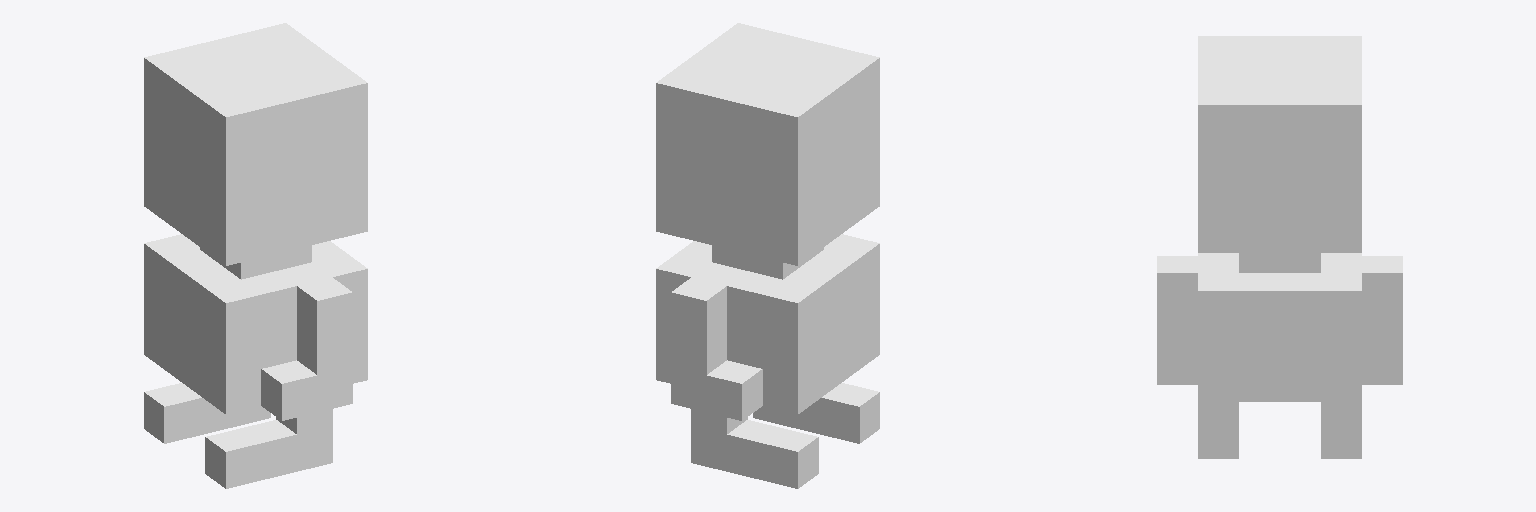
Rendered from tlc_man.obj.
The picture shows the model from 3 angles: view 1: azimuth 30°, elevation 25°; view 2: azimuth 150°, elevation 25°; view 3: azimuth 270°, elevation 25°; orthographic projection.
Visible parts, largest first — view 1: object 1; view 2: object 1; view 3: object 1.
Part boxes in pixels (left/top/right/bottom): object 1: left=144, top=23, right=367, bottom=488; object 1: left=656, top=23, right=879, bottom=488; object 1: left=1157, top=36, right=1402, bottom=458.
Bounding box in the file's own units: 0.4 × 1 × 0.6.